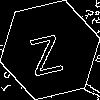Z: (25, 25, 65, 77)
